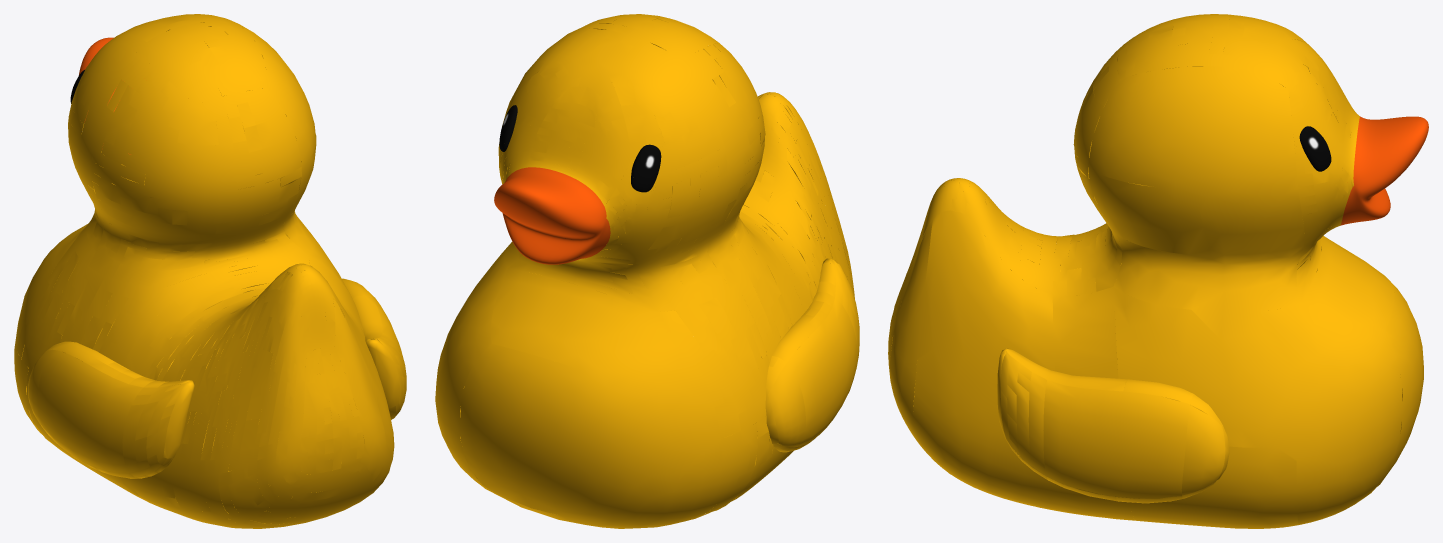
File: rubber_duck.glb
The picture shows the model from 3 angles, left to right: view 1: azimuth 30°, elevation 25°; view 2: azimuth 150°, elevation 25°; view 3: azimuth 270°, elevation 25°; orthographic projection. The views are drawn at different scales.
Parts seen in each view (by area): view 1: Object_9; view 2: Object_9; view 3: Object_9.
Part boxes in pixels (x1,y1,x2,y2): Object_9: [14, 14, 406, 528]; Object_9: [435, 14, 859, 528]; Object_9: [888, 14, 1428, 528].
Bounding box in the file's own units: 3.84 × 4.92 × 5.16.
Materials: 3 (1 with a texture image).
